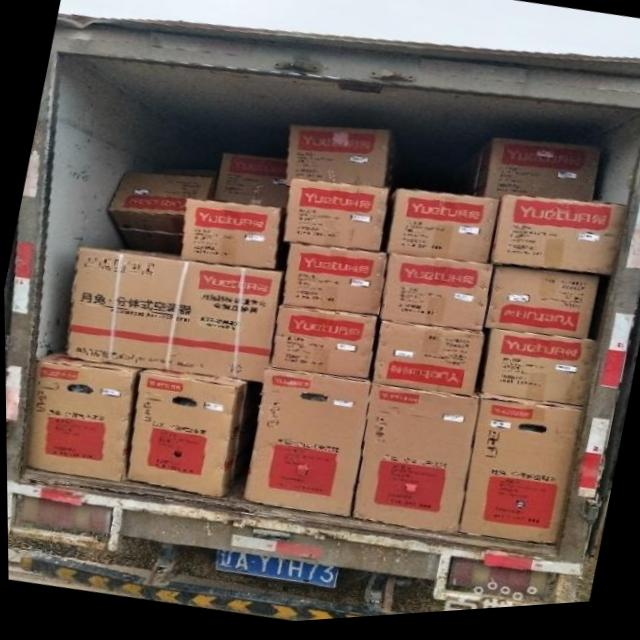box: (65, 248, 280, 385), (455, 399, 582, 553), (240, 371, 370, 521), (350, 387, 478, 539), (126, 369, 249, 501), (21, 351, 142, 484), (491, 203, 626, 284), (379, 257, 496, 337), (480, 336, 598, 413), (104, 173, 213, 256), (383, 195, 498, 270), (370, 324, 483, 400), (482, 271, 596, 346), (475, 144, 599, 209), (267, 309, 376, 382), (282, 183, 386, 257), (281, 248, 386, 321), (178, 200, 278, 272), (287, 127, 388, 193), (209, 156, 287, 213)
